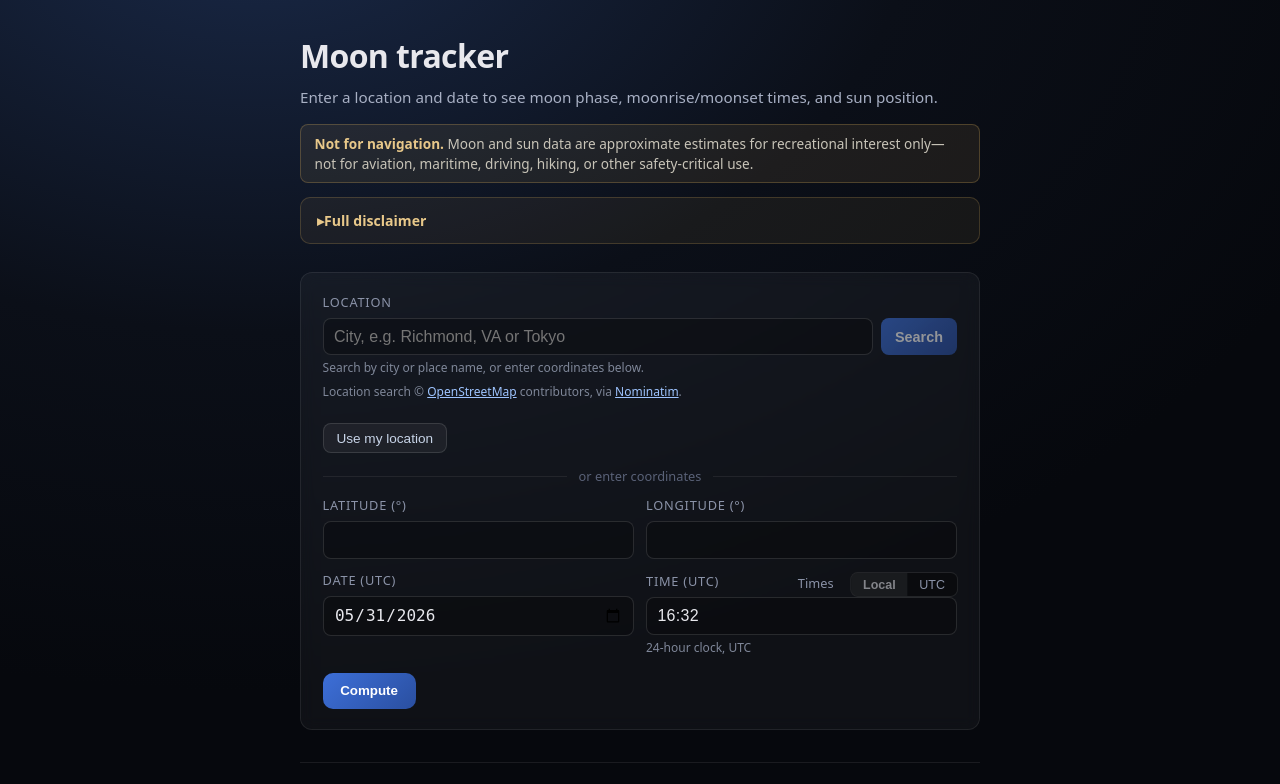
App › shows a hint when Compute is pressed without a location
Click the button "Compute": click(369, 691) [323, 673, 416, 709]
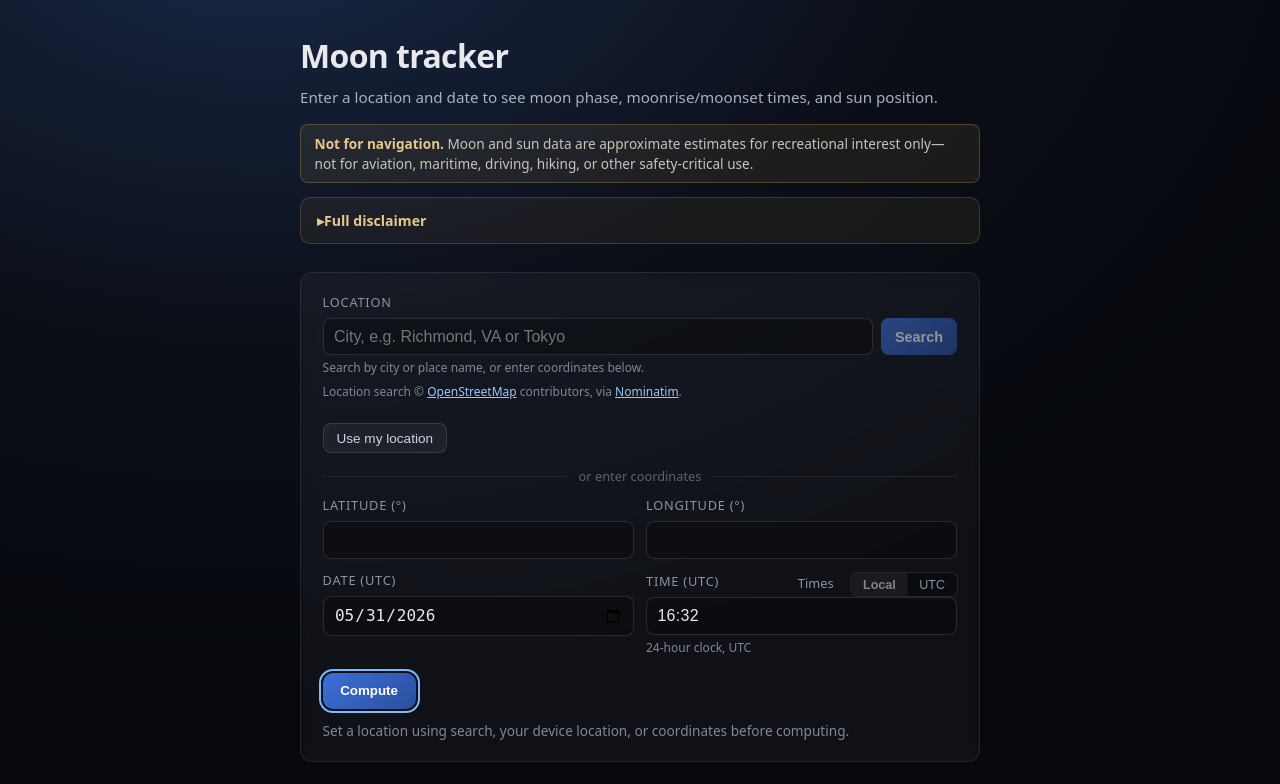
Now the text "Set a location using search, your device location, or coordinates before computing" is shown, box [323, 721, 849, 740]
